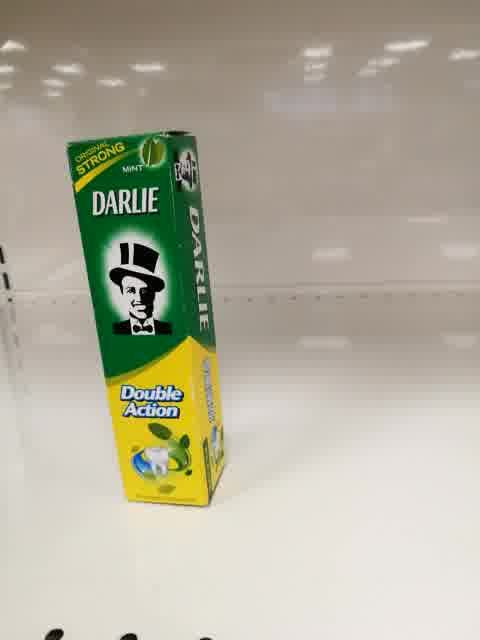toothpaste: (66, 131, 225, 508)
